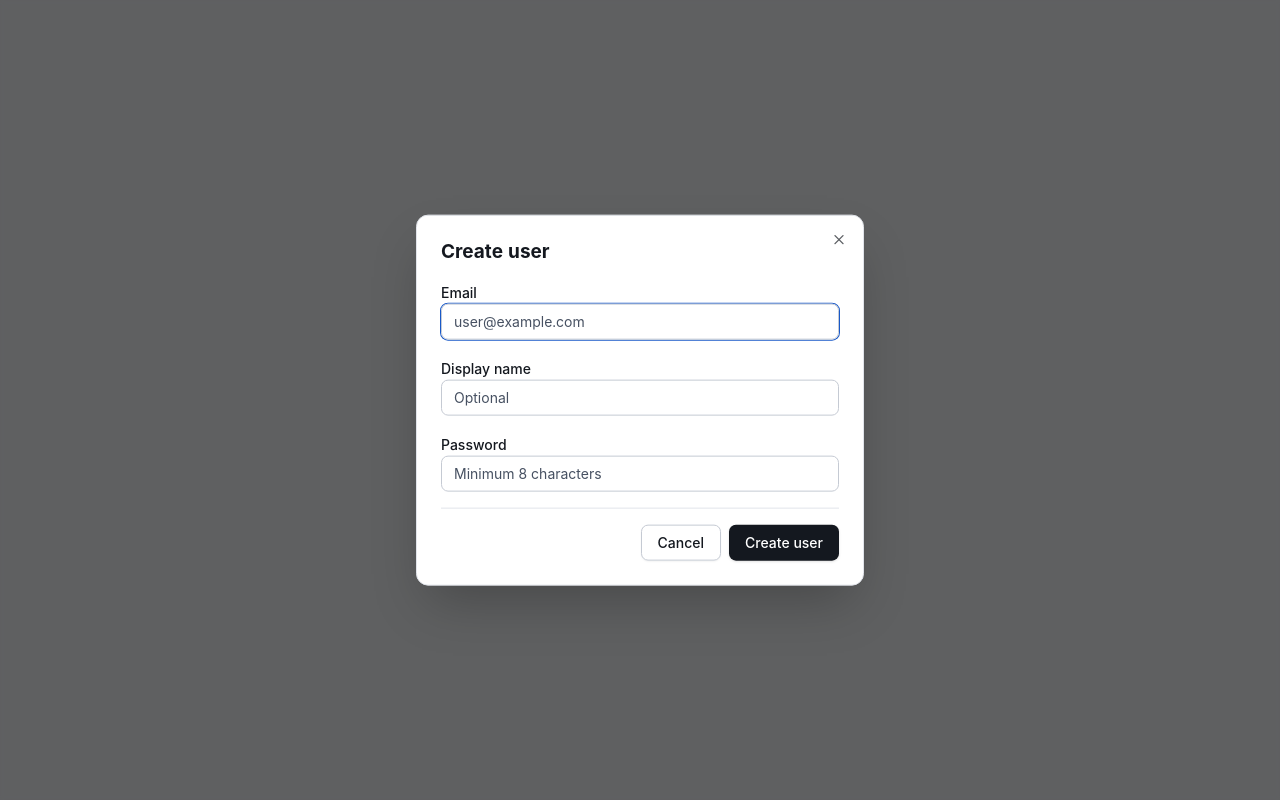
Test: a failed save › is shown once, in place: admin: Create user
Type "alice@example.com" into the field labelled "Email". click: (640, 321)
box: [441,303,839,339]
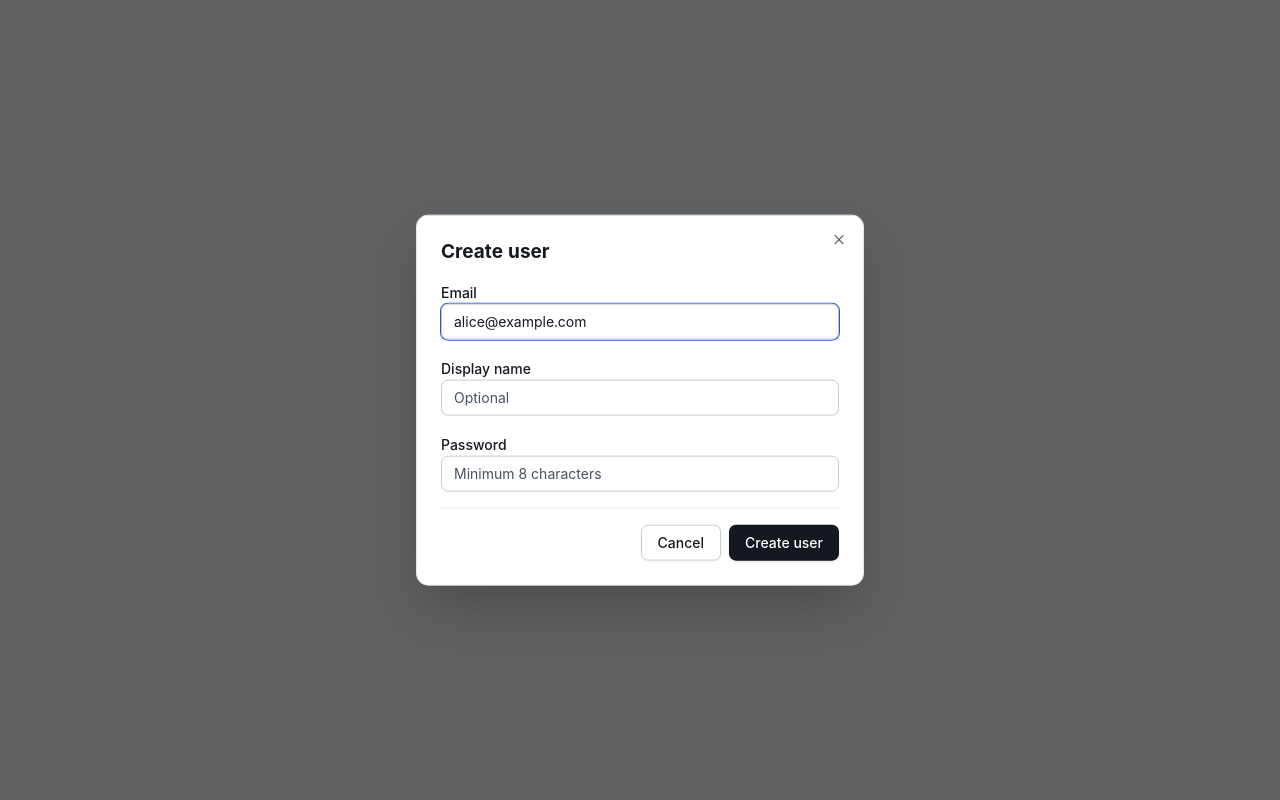
Type "secret-01" into the password field labelled "Password". click: (640, 473)
box: [441,455,839,491]
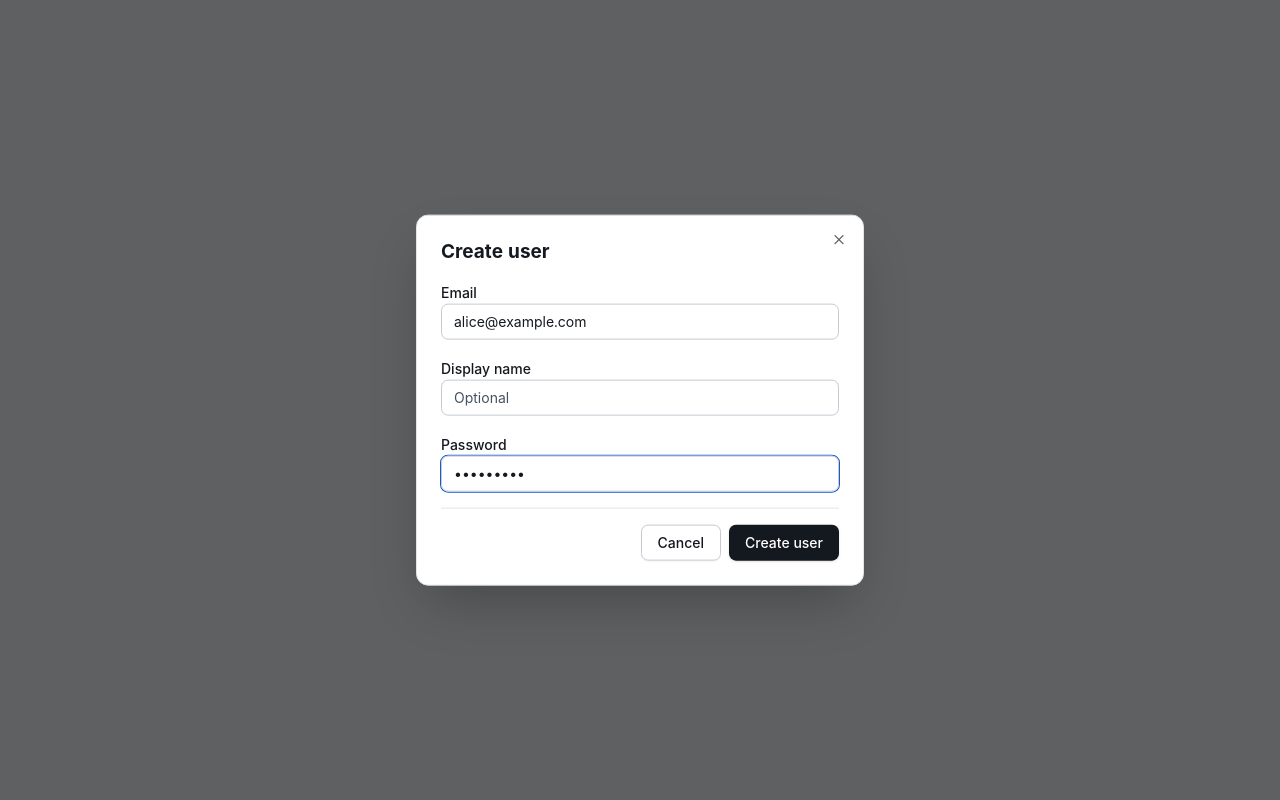
Click the button "Create user". click: (784, 542)
box: [729,524,839,560]
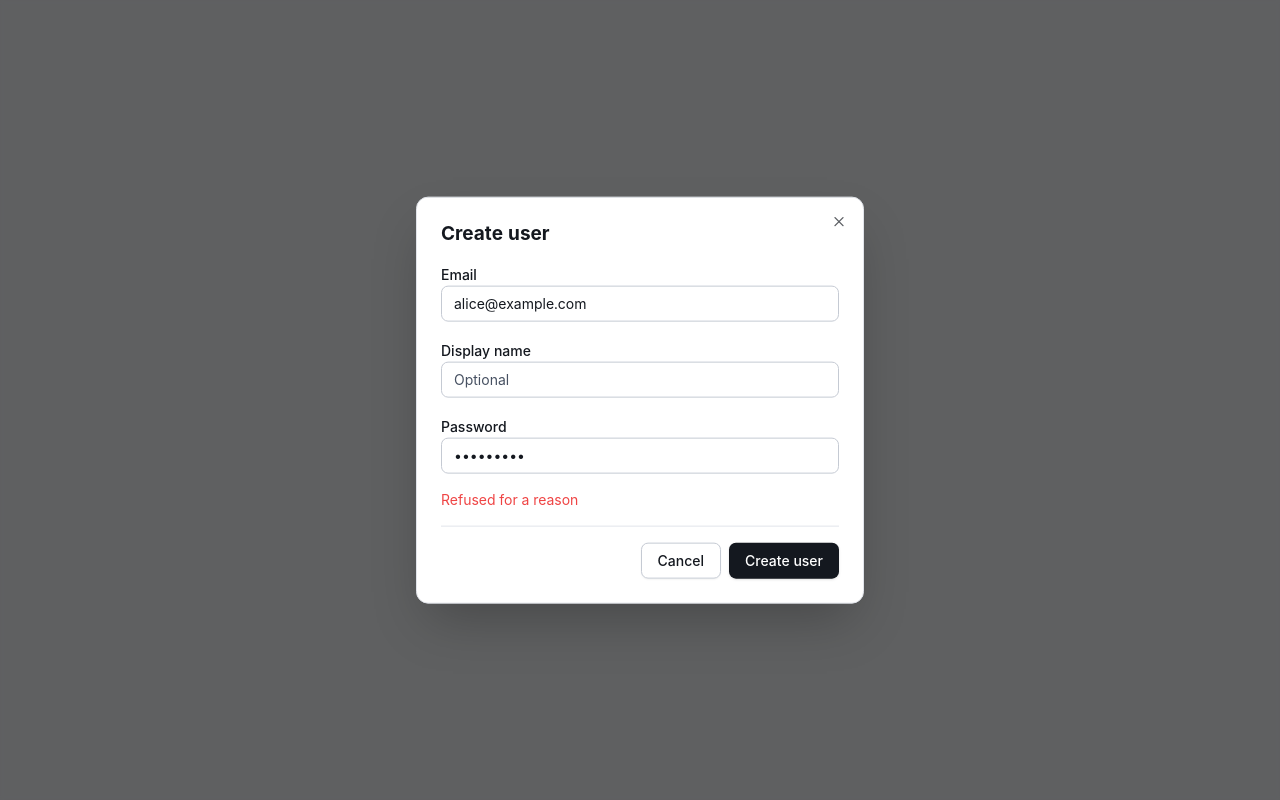
Now the text "Refused for a reason" is shown, box [441,490,578,507]
